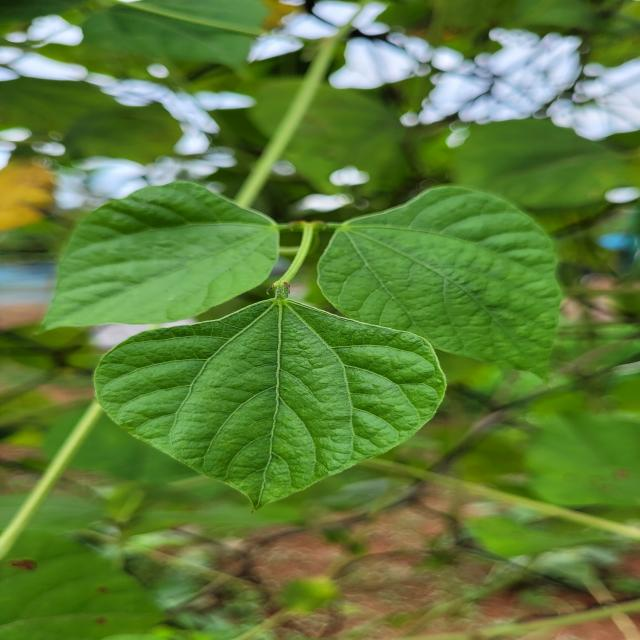Dolicos bean_healthy: (89, 298, 444, 503), (308, 182, 574, 380), (43, 180, 278, 328)
